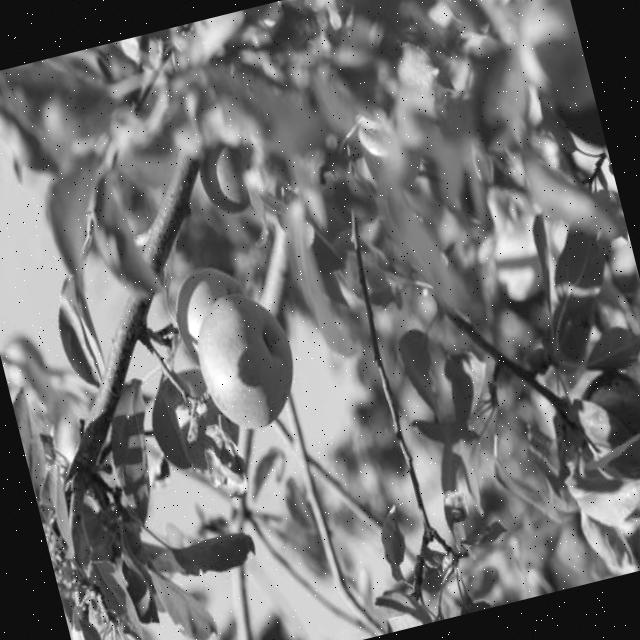Unripe: (186, 288, 307, 438)
